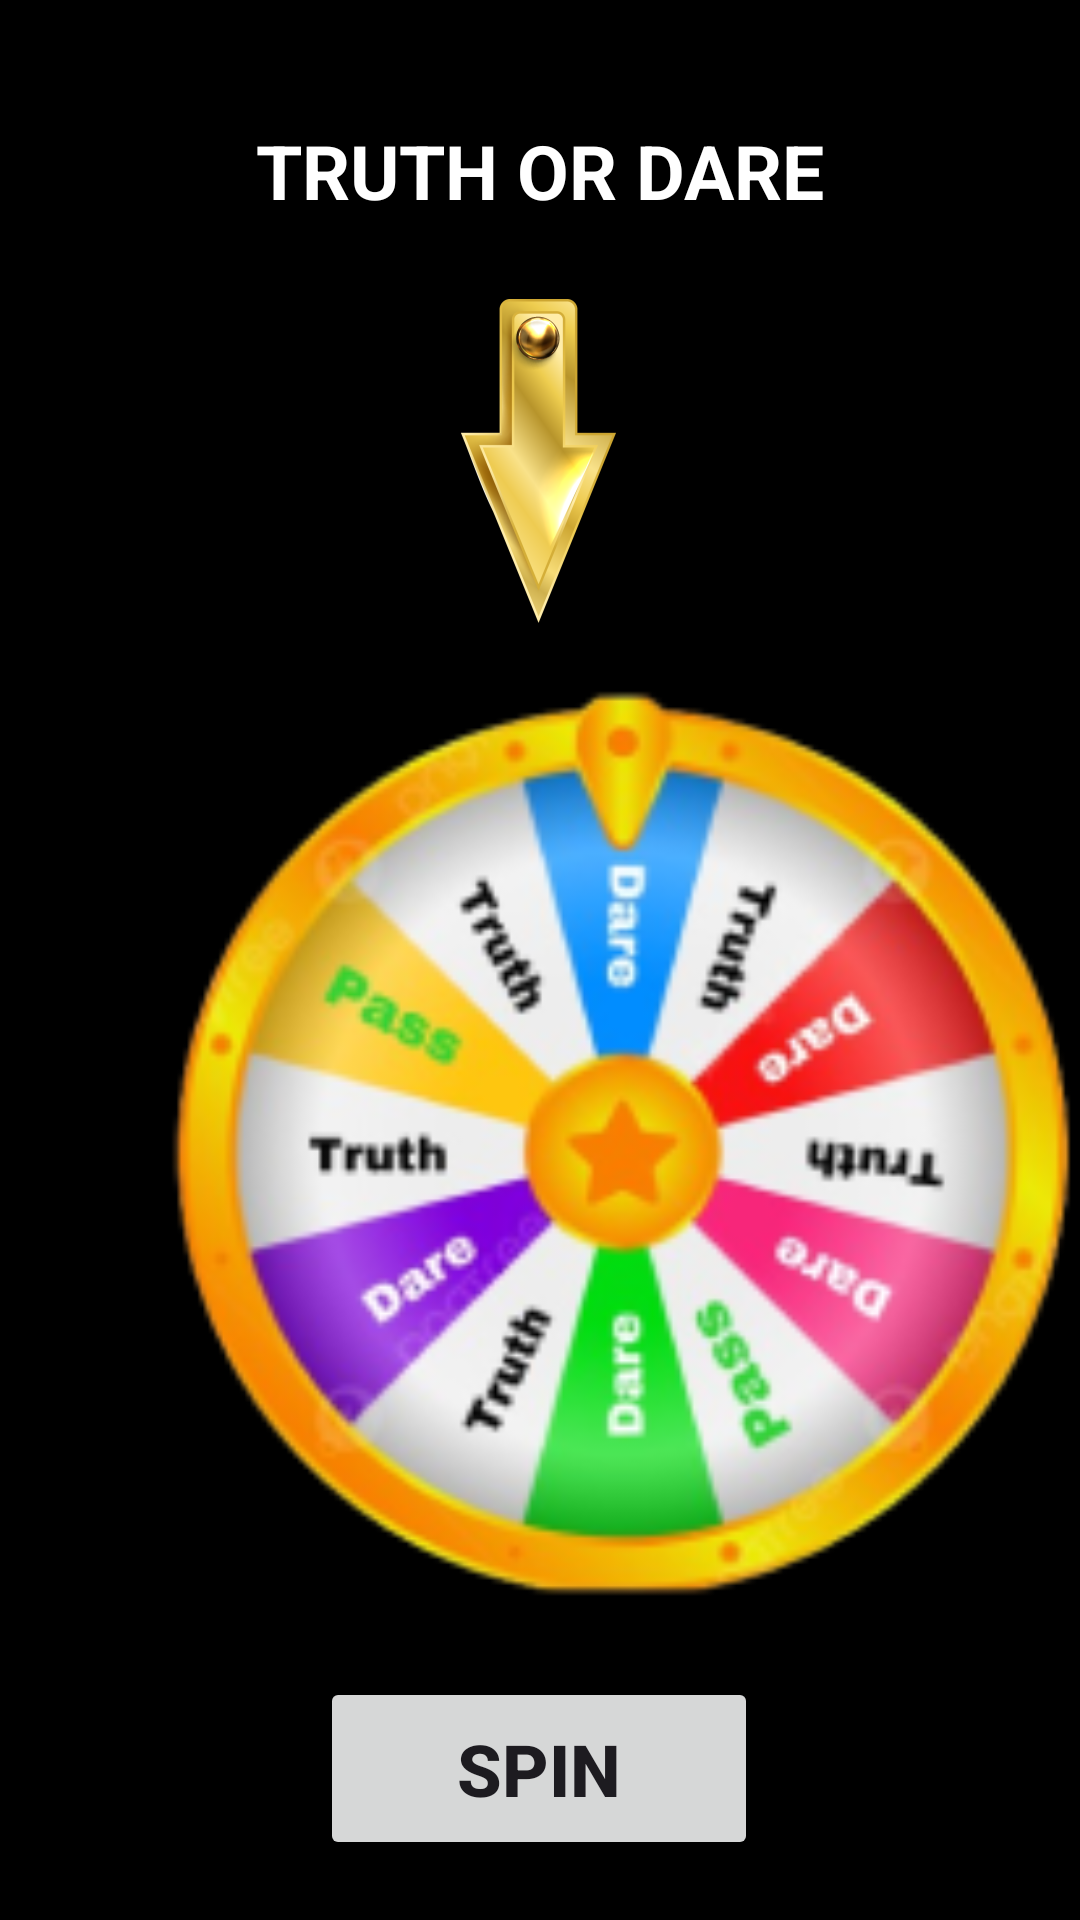

Named icons in this screenshot (1080*1920) and their centers, point (x, y):
roulette pointer: point (538, 461)
